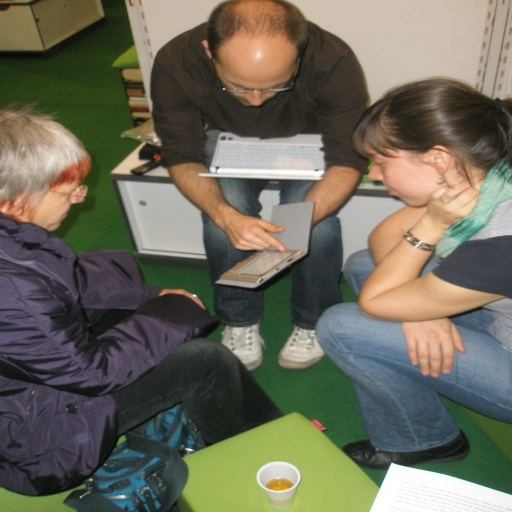hand: (170, 178, 306, 247), (401, 316, 467, 380), (424, 175, 486, 228), (222, 213, 286, 253), (158, 287, 204, 312)
